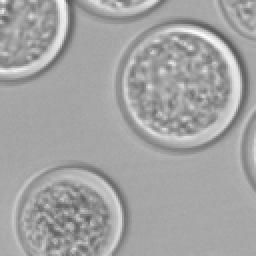picoshell: (118, 22, 242, 148), (12, 166, 124, 254), (76, 0, 160, 18), (216, 0, 254, 38), (240, 110, 254, 188)
